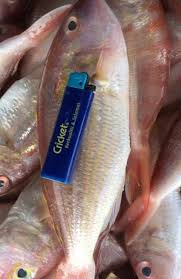Ikan Kerisi: (38, 1, 135, 279)
